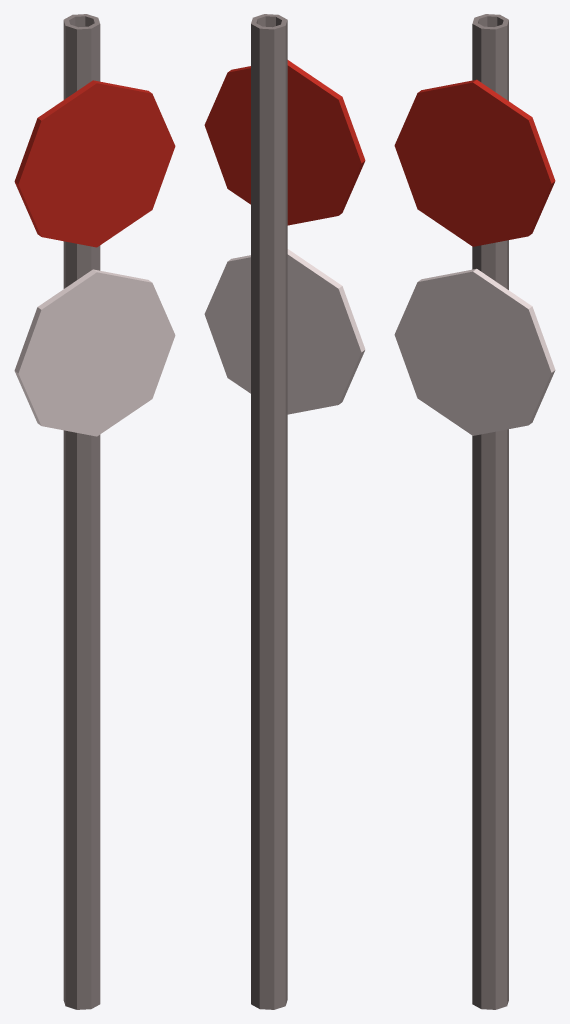
The model's file is Sign.fbx.
3 renders of one model, left to right at view 1: azimuth 30°, elevation 25°; view 2: azimuth 150°, elevation 25°; view 3: azimuth 330°, elevation 25°, orthographic.
Visible parts, largest first — view 1: Sign; view 2: Sign; view 3: Sign.
Part boxes in pixels (x1=…): Sign: x1=14, y1=14, x2=175, y2=1009; Sign: x1=204, y1=14, x2=365, y2=1009; Sign: x1=394, y1=14, x2=555, y2=1009.
Size of the model in its own units: 41.78 by 11.91 by 249.
